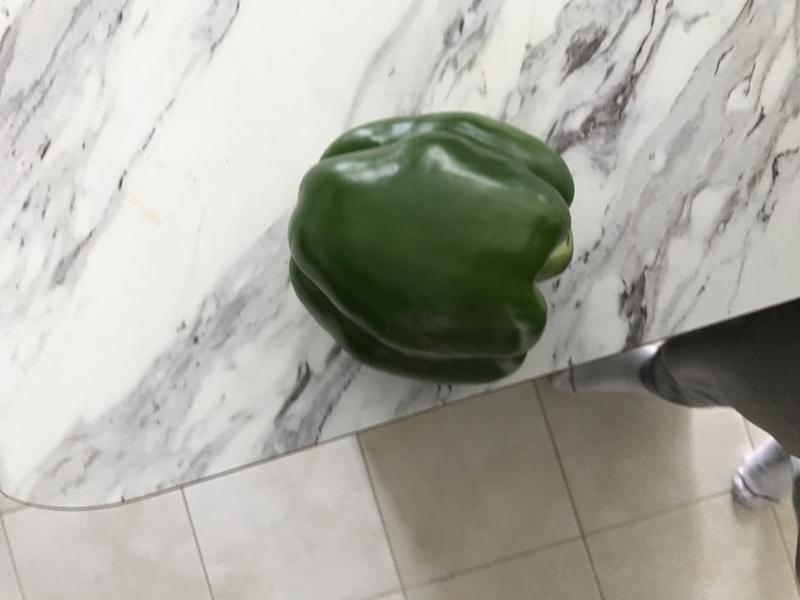green_pepper: (276, 99, 581, 390)
